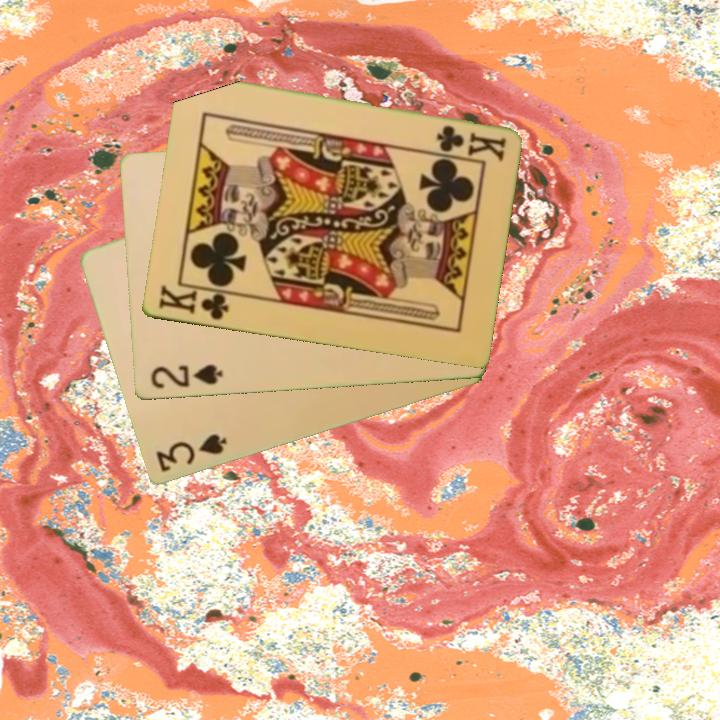2s: (147, 361, 225, 392)
3s: (152, 430, 230, 476)
Kc: (154, 282, 238, 324), (432, 122, 509, 160)
